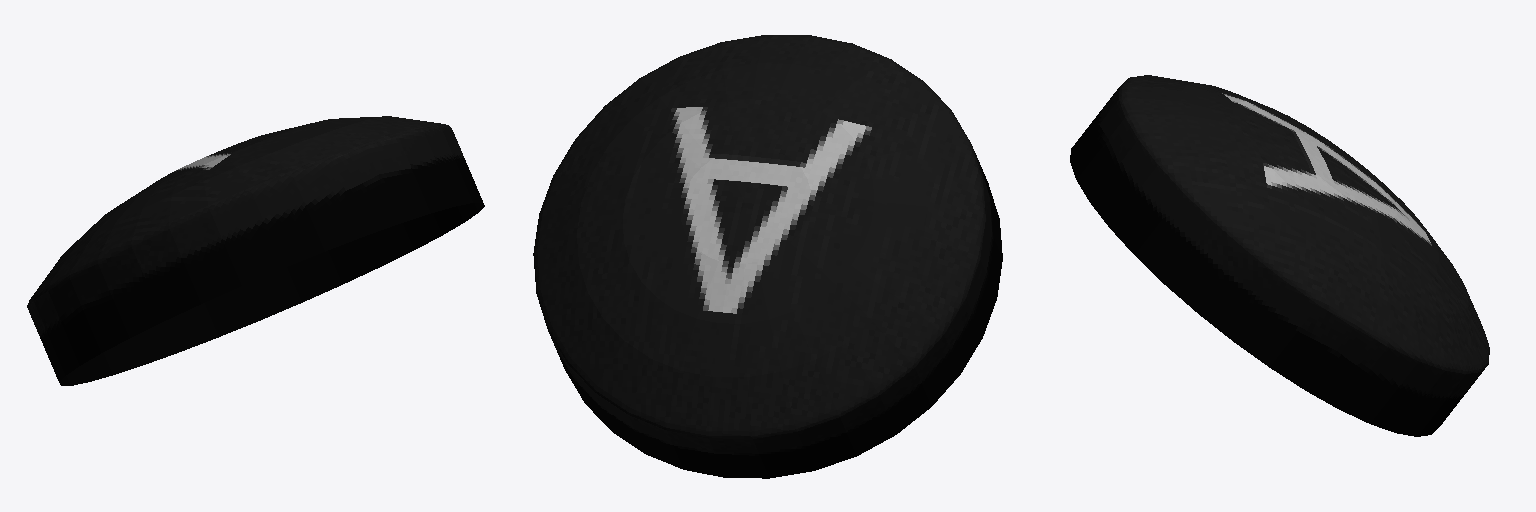
3 renders of one model, left to right at view 1: azimuth 30°, elevation 25°; view 2: azimuth 150°, elevation 25°; view 3: azimuth 270°, elevation 25°, orthographic.
Visible parts, largest first — view 1: oculus_quest2_controller_right_button_a; view 2: oculus_quest2_controller_right_button_a; view 3: oculus_quest2_controller_right_button_a.
Boxes of the visible parts, x1,y1,x2,y2 form: oculus_quest2_controller_right_button_a: [27, 116, 484, 385]; oculus_quest2_controller_right_button_a: [533, 35, 1002, 478]; oculus_quest2_controller_right_button_a: [1070, 75, 1489, 436].
Bounding box in the file's own units: 0.0101 × 0.0075 × 0.0091.
Materials: 1 (1 with a texture image).